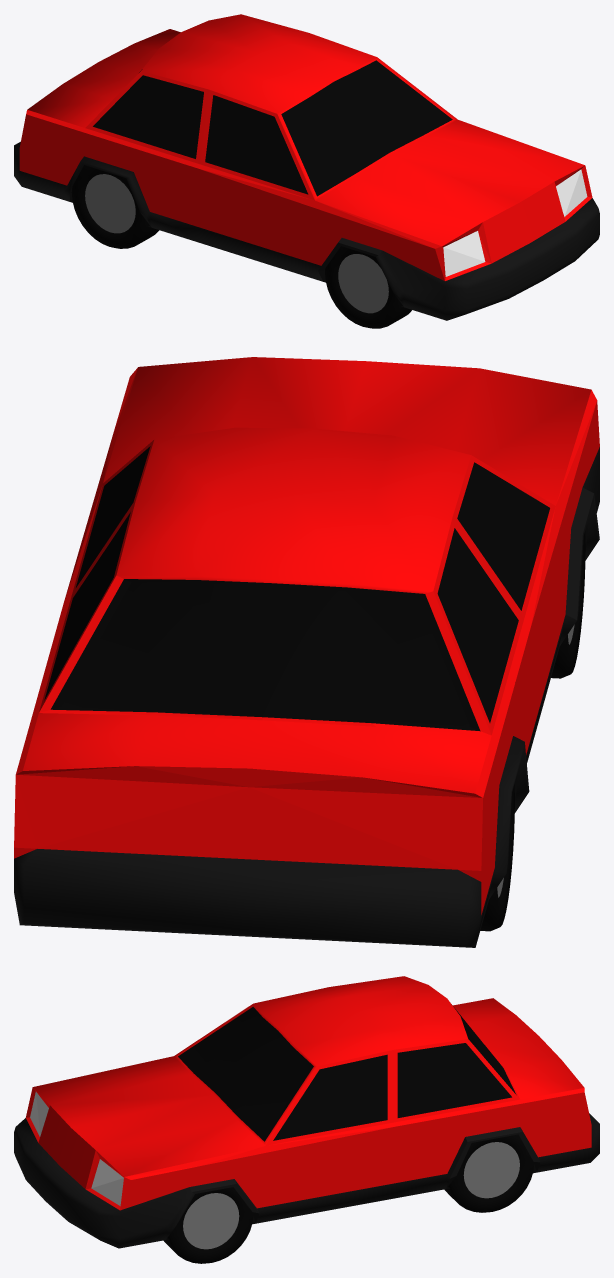
Rendered from Car.dae.
3 renders of one model, top to bottom at view 1: azimuth 30°, elevation 25°; view 2: azimuth 150°, elevation 25°; view 3: azimuth 270°, elevation 25°, orthographic. The views are drawn at different scales.
Visible parts, largest first — view 1: Car; view 2: Car; view 3: Car.
Boxes of the visible parts, x1,y1,x2,y2 form: Car: [14, 14, 599, 328]; Car: [14, 357, 599, 947]; Car: [14, 976, 599, 1263].
Size of the model in its own units: 3.54 by 1.59 by 4.91.
